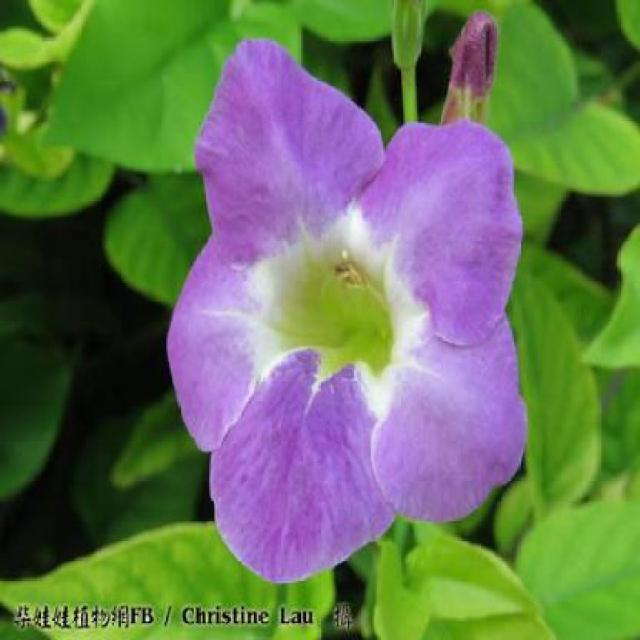flower: (152, 63, 525, 559)
